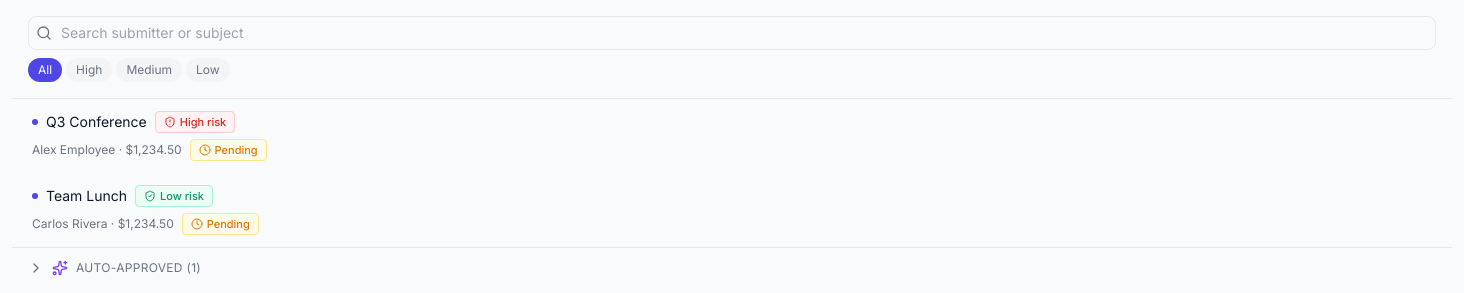
Test: ApprovalQueue › search filters by submitter or subject (display-only)
Step 1. Type "carlos" into the field named "Search approvals" → (732, 33), box top-left (28, 16), bottom-right (1436, 50)
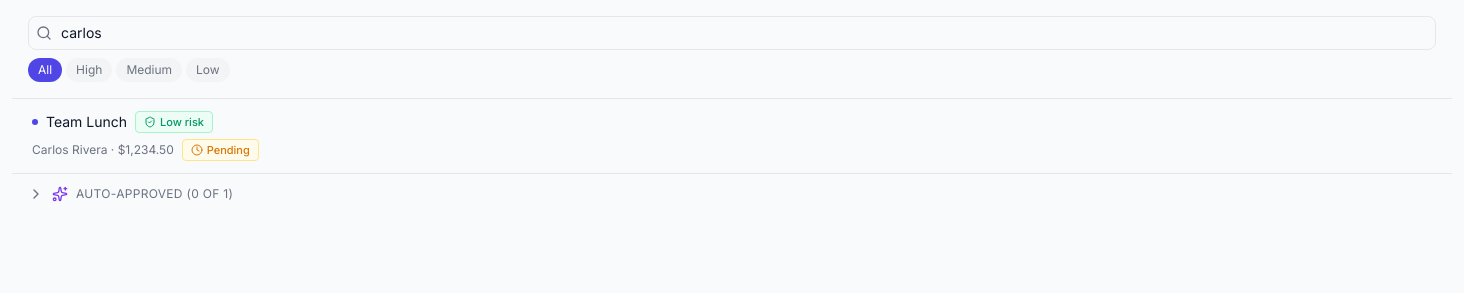
Expected: the text "Team Lunch" is shown, top-left (46, 112), bottom-right (127, 132)
Now the button "Q3 Conference" is gone
